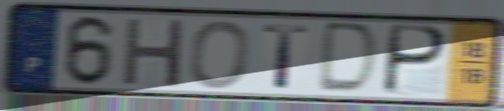6: (59, 13, 118, 88)
D: (314, 19, 382, 98)
H: (119, 15, 189, 90)
O: (186, 19, 252, 91)
P: (379, 22, 450, 98)
T: (261, 22, 313, 91)
